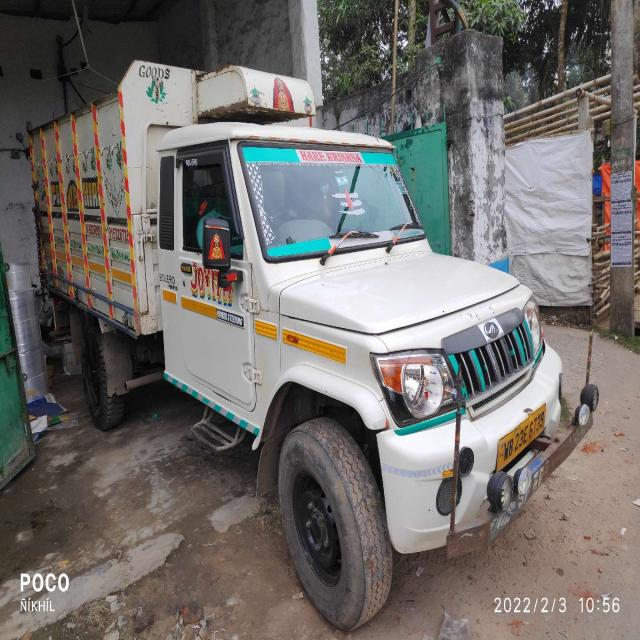light_vehicle: (34, 110, 576, 519)
